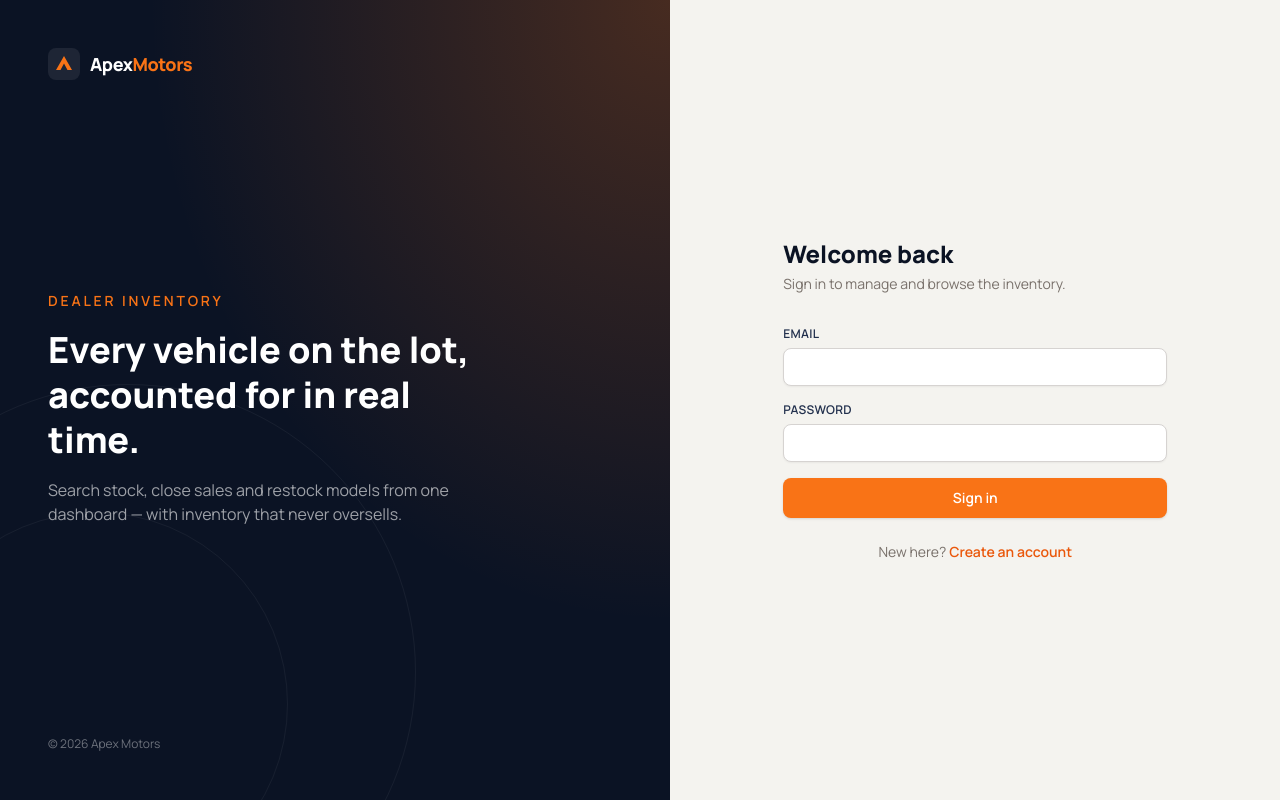
Test case: Login › signs in and lands on the inventory
The width and height of the screenshot is (1280, 800).
Type "casey@example.com" into the field labelled "Email" at {"x": 975, "y": 367}, box [783,348,1167,386]
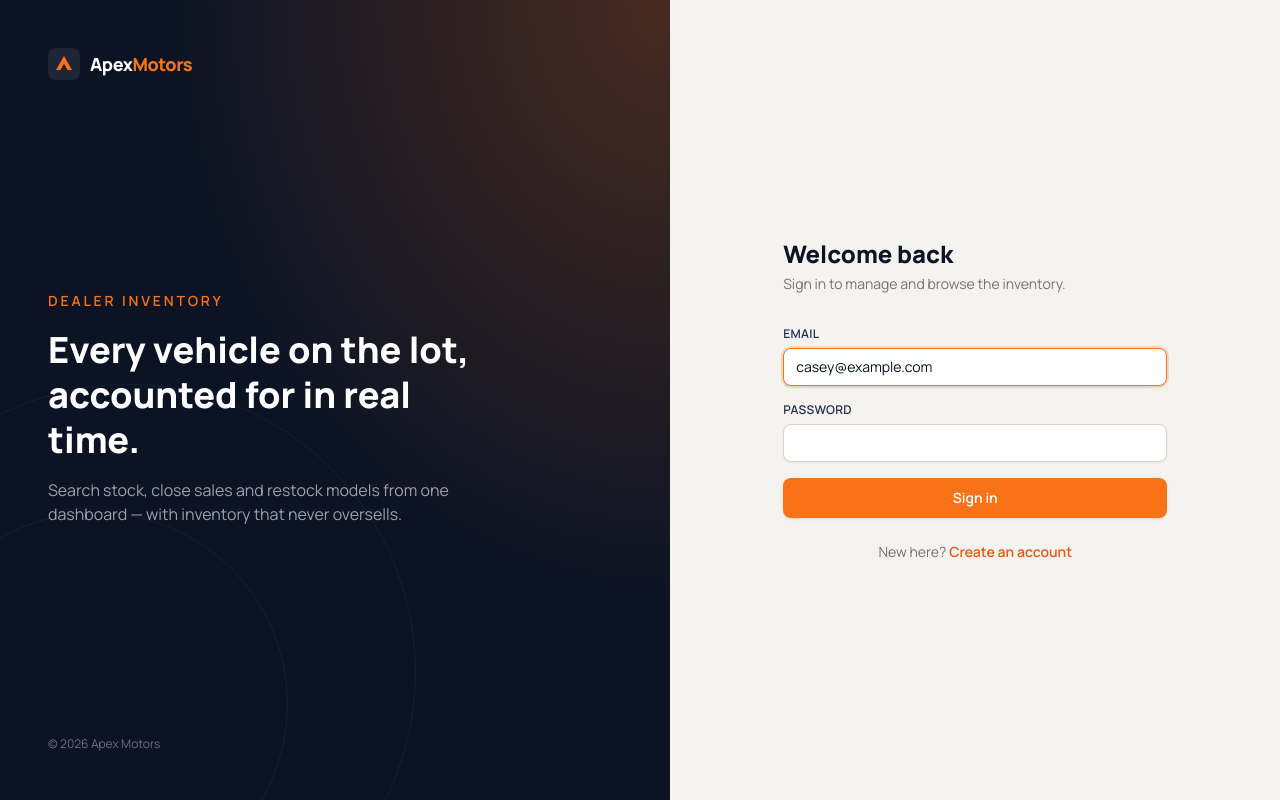
Type "S3curePass" into the password field labelled "Password" at {"x": 975, "y": 443}, box [783,424,1167,462]
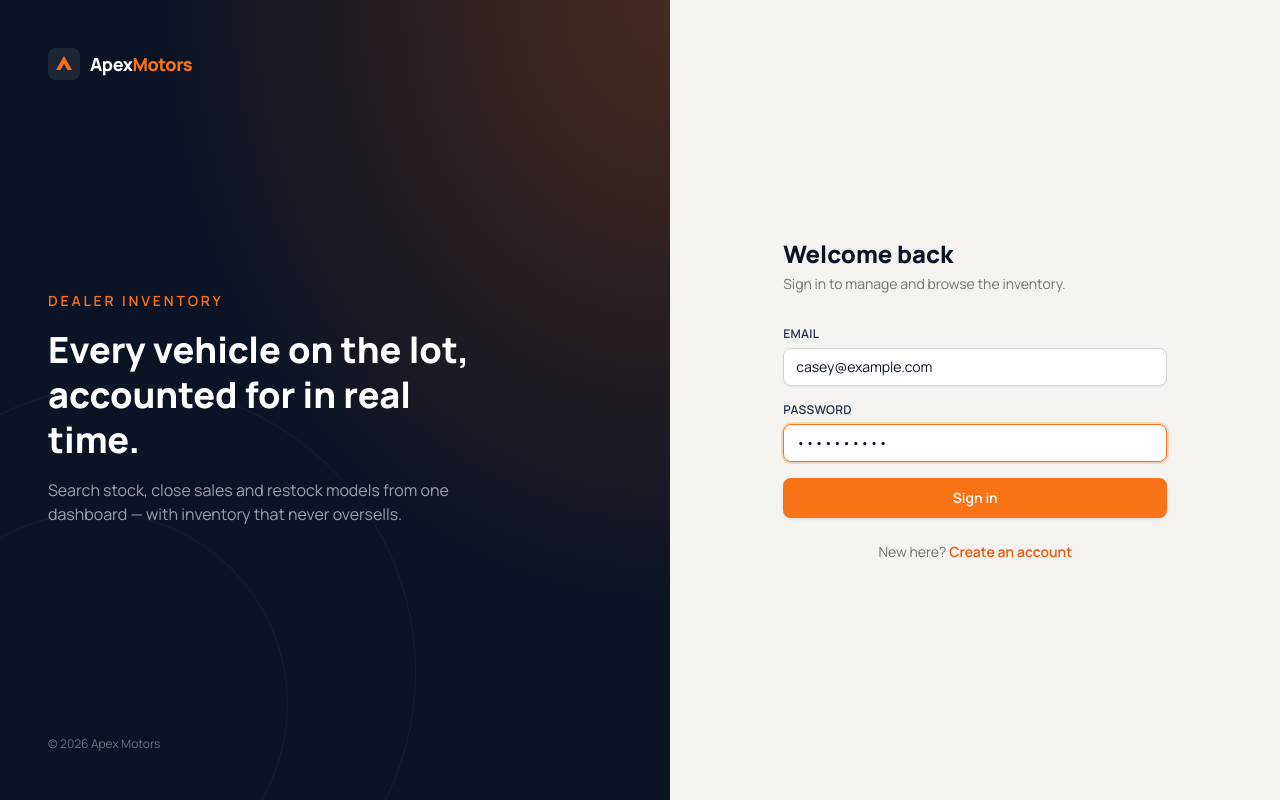
Click the button "Sign in" at {"x": 975, "y": 498}, box [783,478,1167,518]
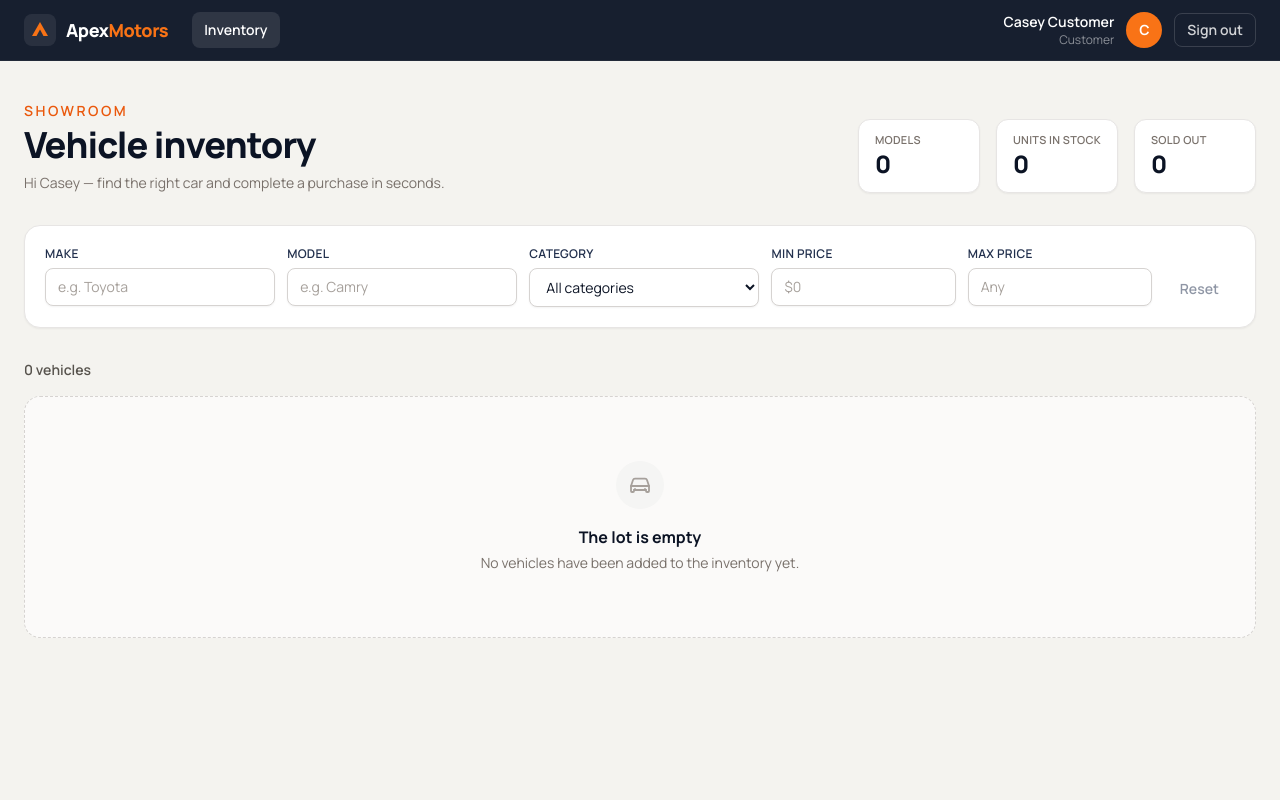
Now the heading "Vehicle inventory" is shown, box [24,120,315,169]
